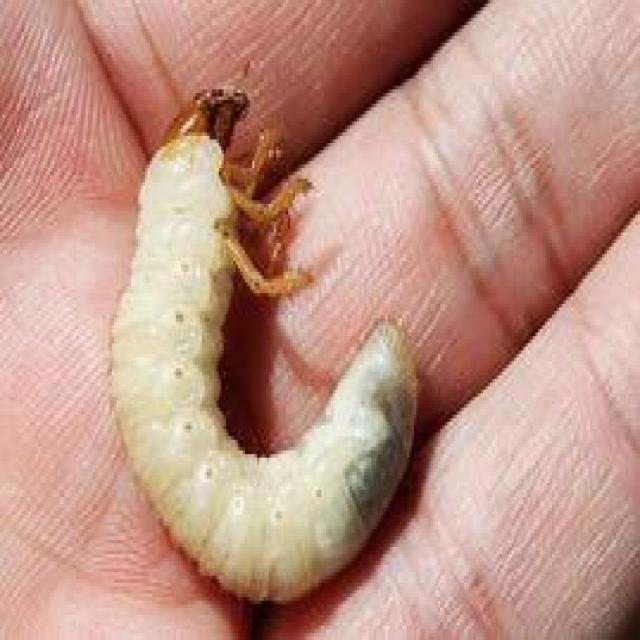Grub-Adult-: (111, 69, 432, 618)
